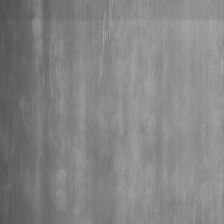silk_spot: (41, 8, 68, 86), (97, 3, 120, 83)
